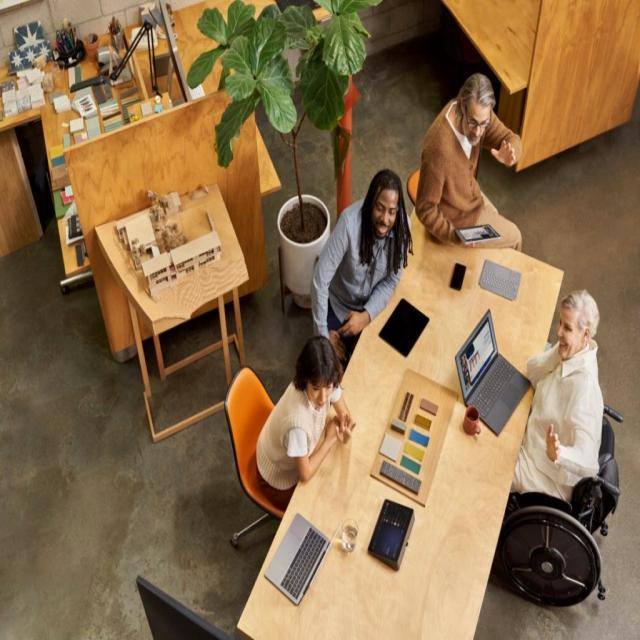adult: (502, 289, 602, 498), (415, 70, 524, 252), (308, 167, 412, 356), (254, 337, 358, 509)
